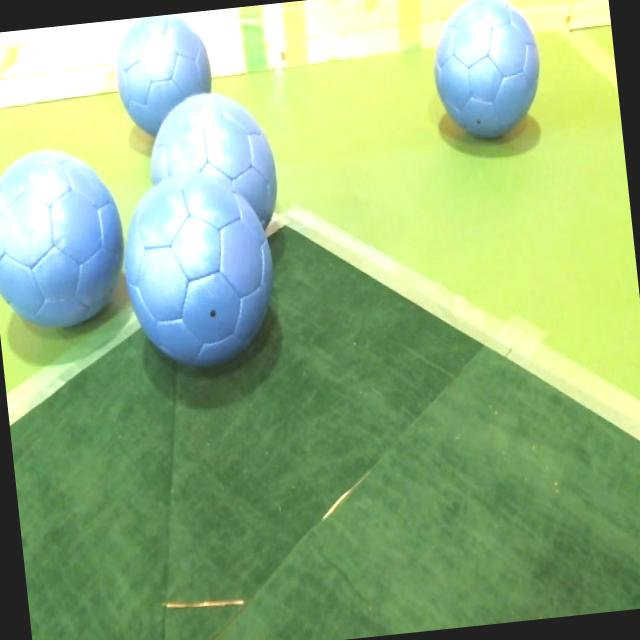blue_ball: (114, 168, 283, 382), (0, 145, 132, 337), (140, 82, 280, 232), (427, 0, 547, 148), (110, 10, 220, 141)
